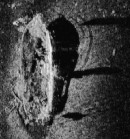ship: (17, 13, 56, 125)
